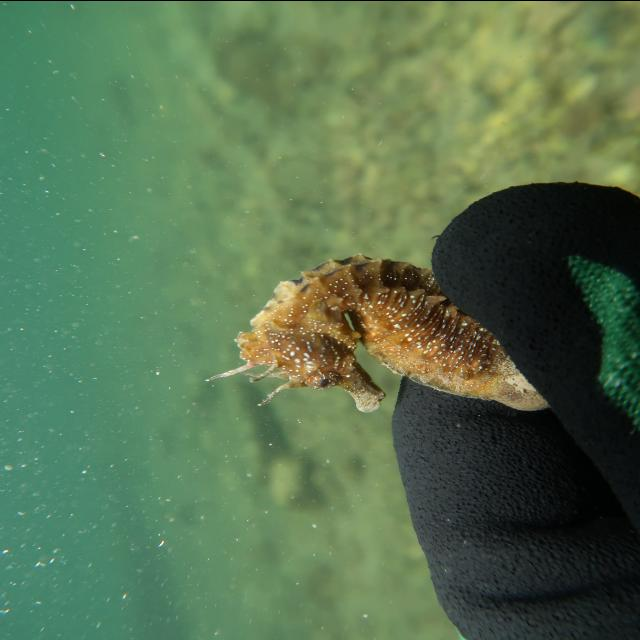Guttu: (230, 322, 388, 416)
